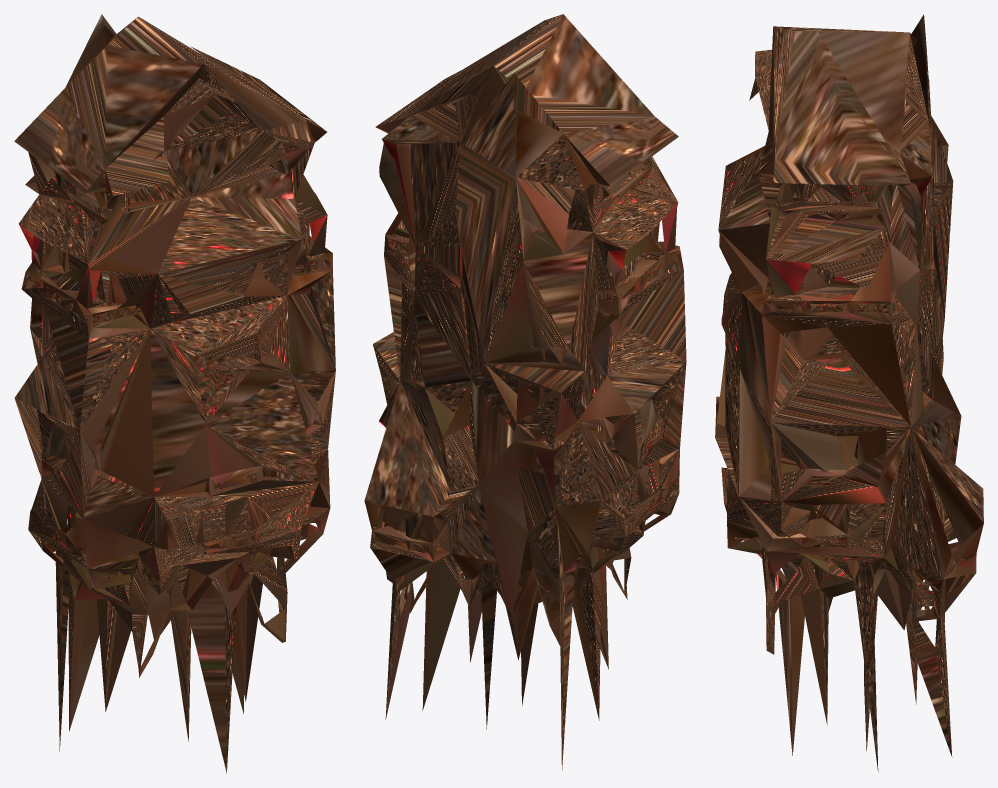
File: o01_far.glb
3 renders of one model, left to right at view 1: azimuth 30°, elevation 25°; view 2: azimuth 150°, elevation 25°; view 3: azimuth 270°, elevation 25°, orthographic. The views are drawn at different scales.
Visible parts, largest first — view 1: o01_far; view 2: o01_far; view 3: o01_far.
Boxes of the visible parts, x1,y1,x2,y2 form: o01_far: [14, 14, 335, 773]; o01_far: [364, 14, 686, 770]; o01_far: [715, 14, 983, 772].
Bounding box in the file's own units: 12.62 × 32 × 10.9.
1 material, 1 textured.
